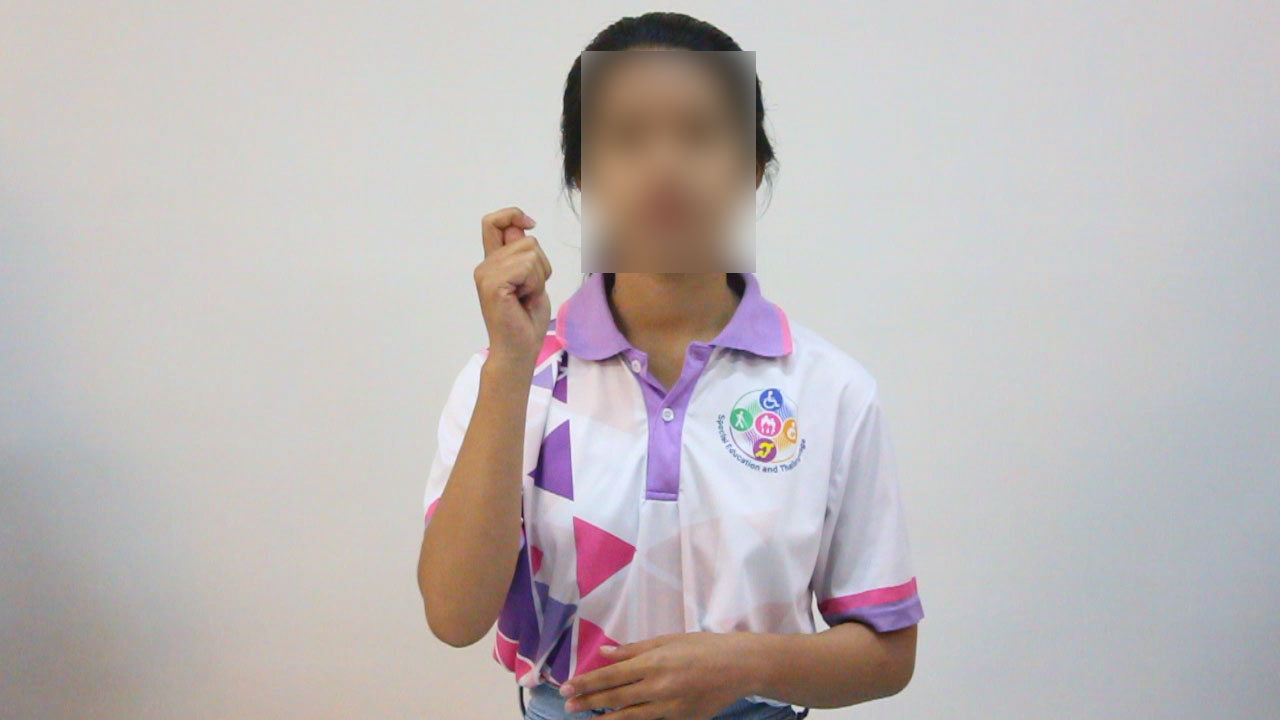or: (469, 206, 561, 376)
